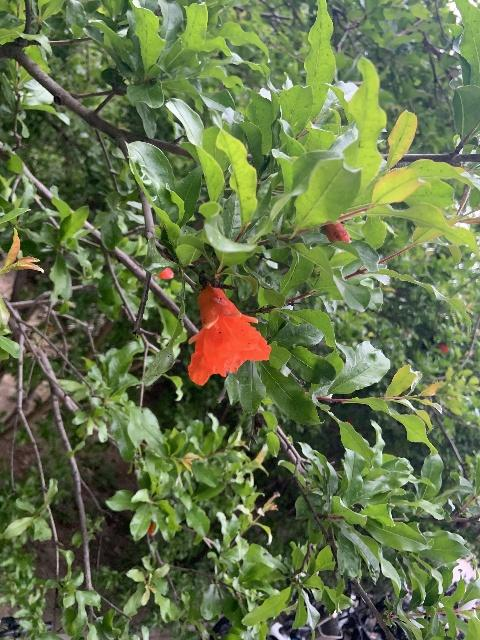bud: (323, 222, 350, 243)
flower: (187, 284, 270, 384)
